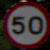Speed limit: (6, 3, 42, 42)
